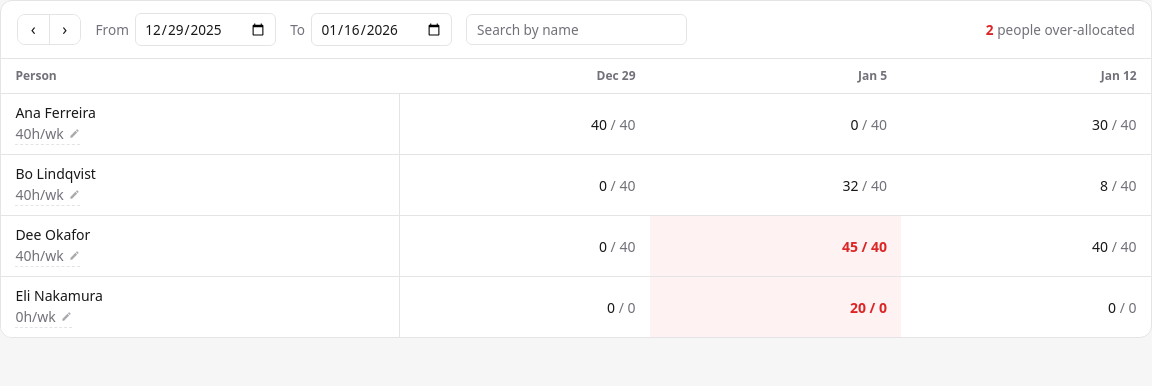
Scenario: failure handling › keeps a failed save visible and leaves the old value in place
Expected: the column heading "Ana Ferreira 40h/wk" is shown, left=1, top=94, right=400, bottom=155
Click the button "40h/wk" below "Ana Ferreira": (48, 135) left=15, top=124, right=80, bottom=145
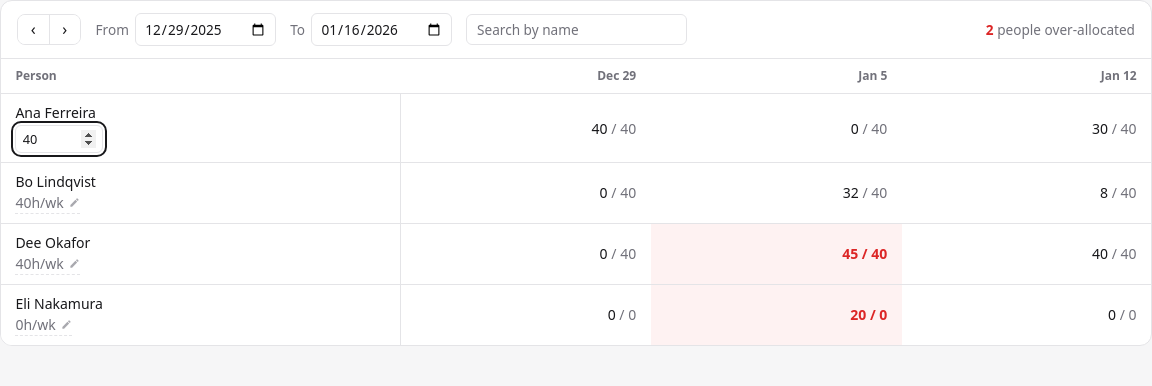
Replace the text in the number field named "Weekly hours for Ana Ferreira" with "50": (59, 139) left=15, top=125, right=103, bottom=153
Then press Enter
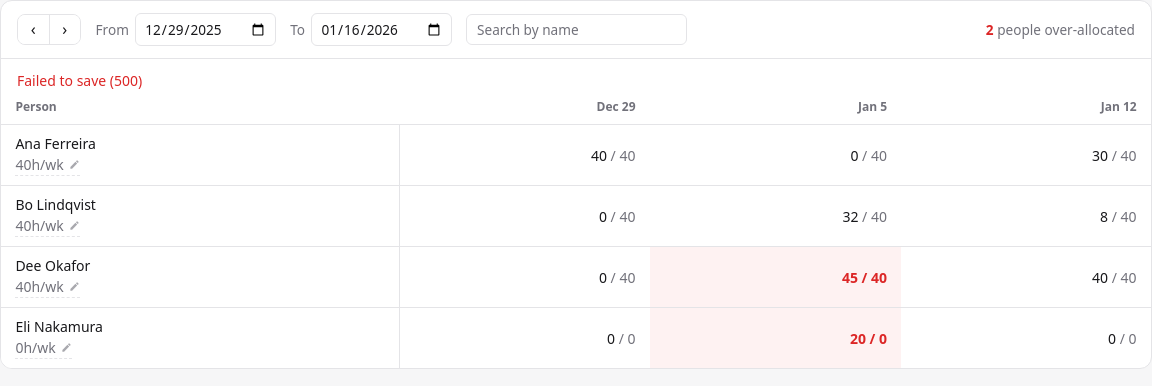
Now the text "Failed to save (500)" is shown, box left=17, top=71, right=142, bottom=90
Now the button "40h/wk" below "Ana Ferreira" is shown, box left=15, top=155, right=80, bottom=176
